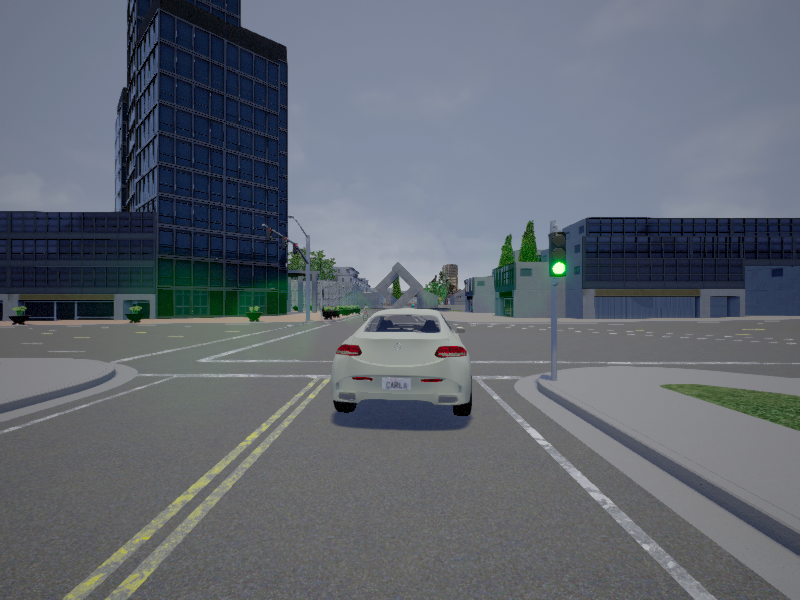Benign: (332, 310, 472, 419)
